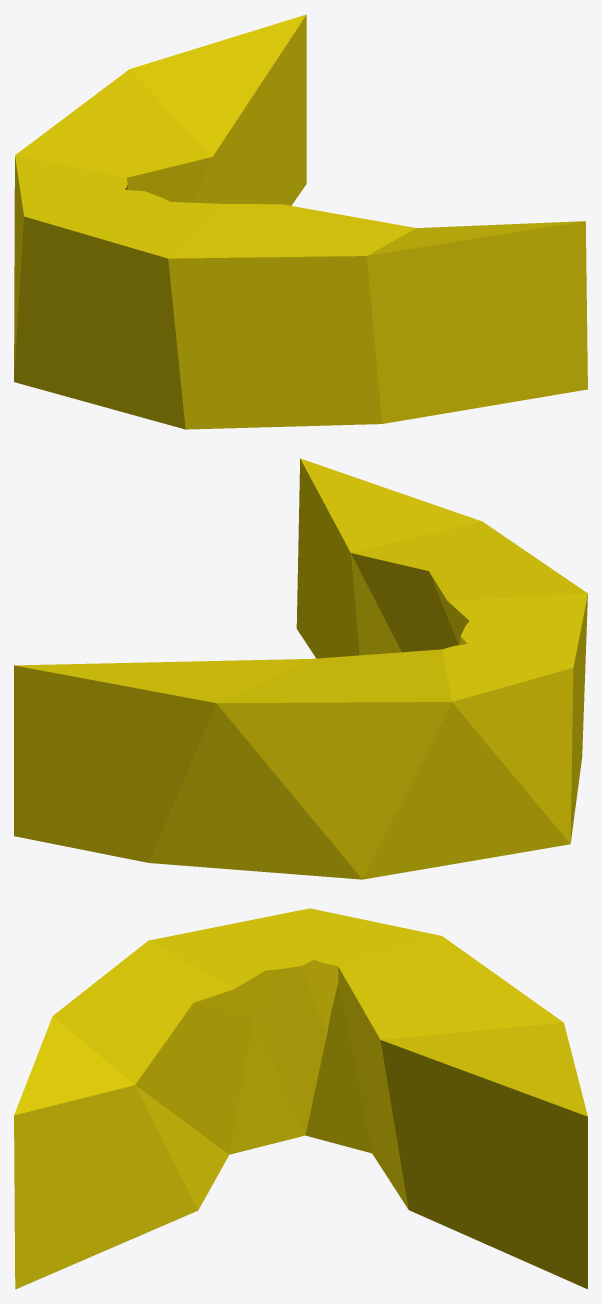
The model's file is lvl1archrock.fbx.
The picture shows the model from 3 angles, top to bottom: view 1: azimuth 30°, elevation 25°; view 2: azimuth 150°, elevation 25°; view 3: azimuth 270°, elevation 25°; orthographic projection.
Visible parts, largest first — view 1: Circle; view 2: Circle; view 3: Circle.
Part boxes in pixels (left/top/right/bottom): Circle: left=14, top=14, right=587, bottom=429; Circle: left=14, top=458, right=587, bottom=879; Circle: left=14, top=908, right=587, bottom=1289.
Size of the model in its own units: 1914 by 755 by 2207.
